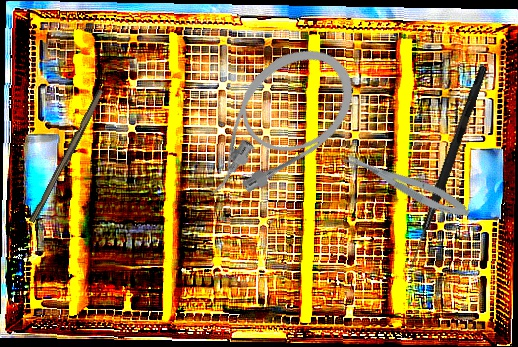Cannula: (171, 28, 374, 220)
Hook Surgical: (407, 64, 488, 271)
Micro Scissor: (340, 144, 474, 225)
Scalpel Handle: (28, 87, 107, 226)
